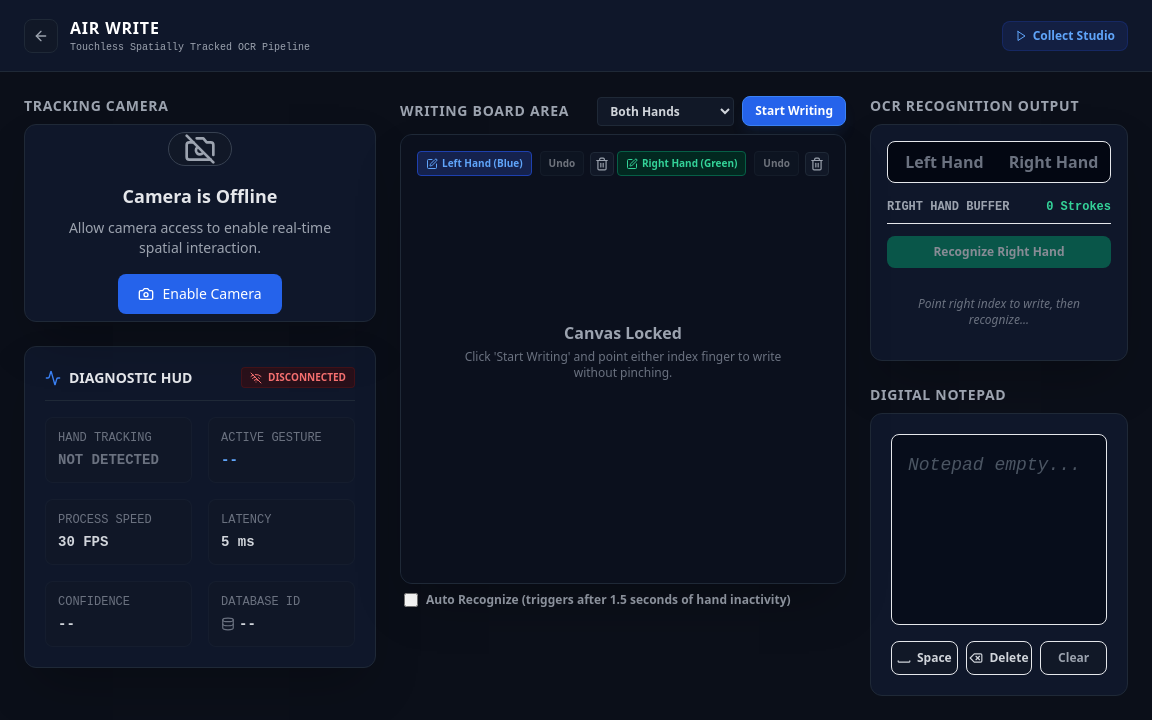
Test: AirWrite Page Component › should render two-hand workspace options, left/right tabs, and custom recognize buttons
Expected: the button "Right Hand" is shown, [1001,146,1106,178]
Expected: the checkbox labelled "Auto Recognize" is shown, [404,593,418,607]
Click Left Tab
Step 1. Click the button "Left Hand" → (944, 162), box [892,146,997,178]
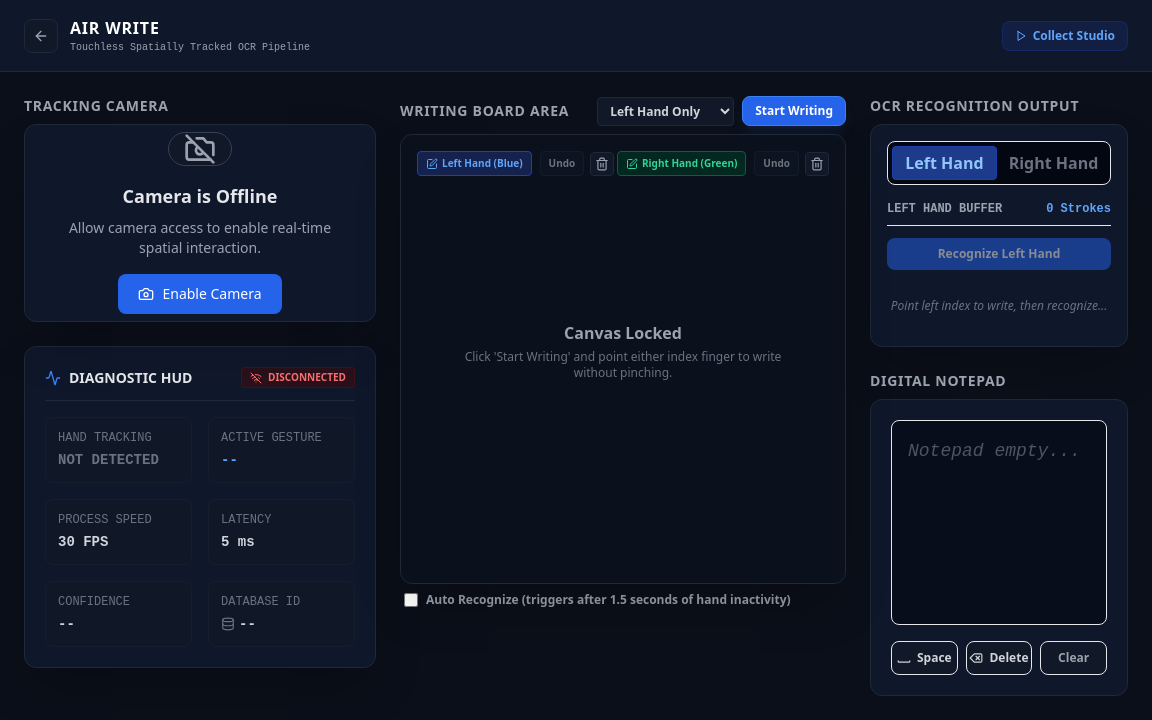
Result: the button "Recognize Left Hand" is shown at [887,238,1111,270]
Result: the text "LEFT HAND BUFFER" is shown at [887,201,1002,217]
Click Right Tab
Step 2. Click the button "Right Hand" → (1054, 163), box [1001,146,1106,180]
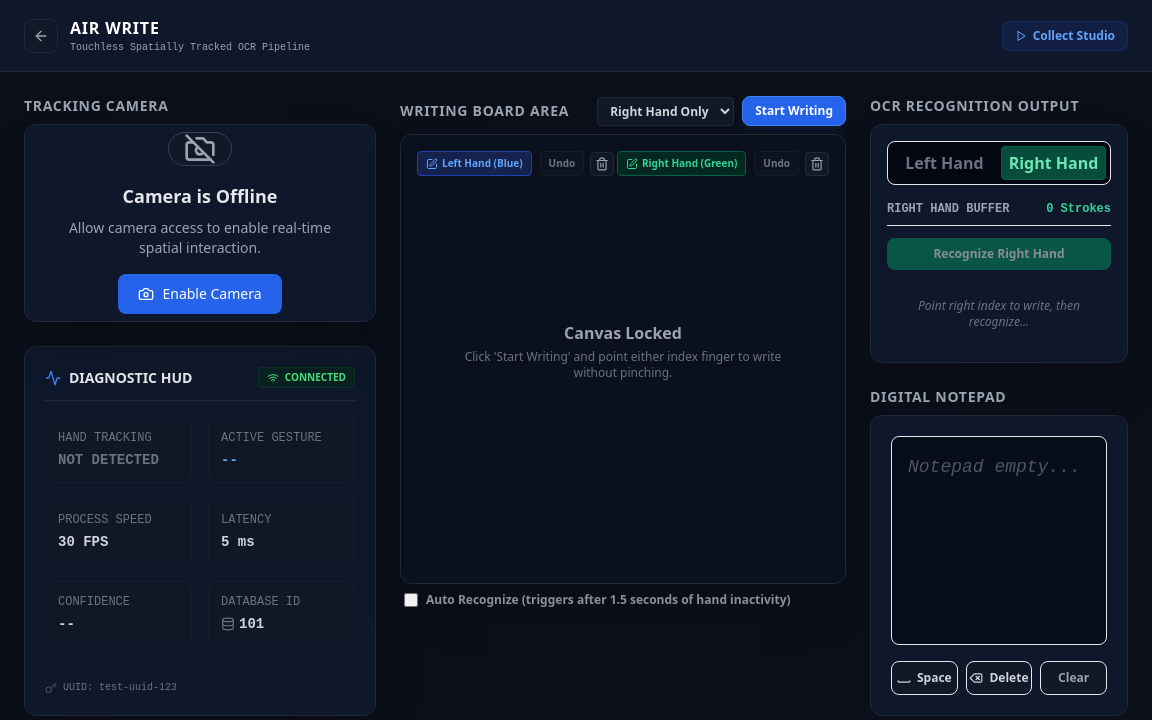
Result: the button "Recognize Right Hand" is shown at [887,238,1111,270]
Result: the text "RIGHT HAND BUFFER" is shown at [887,201,1009,217]
